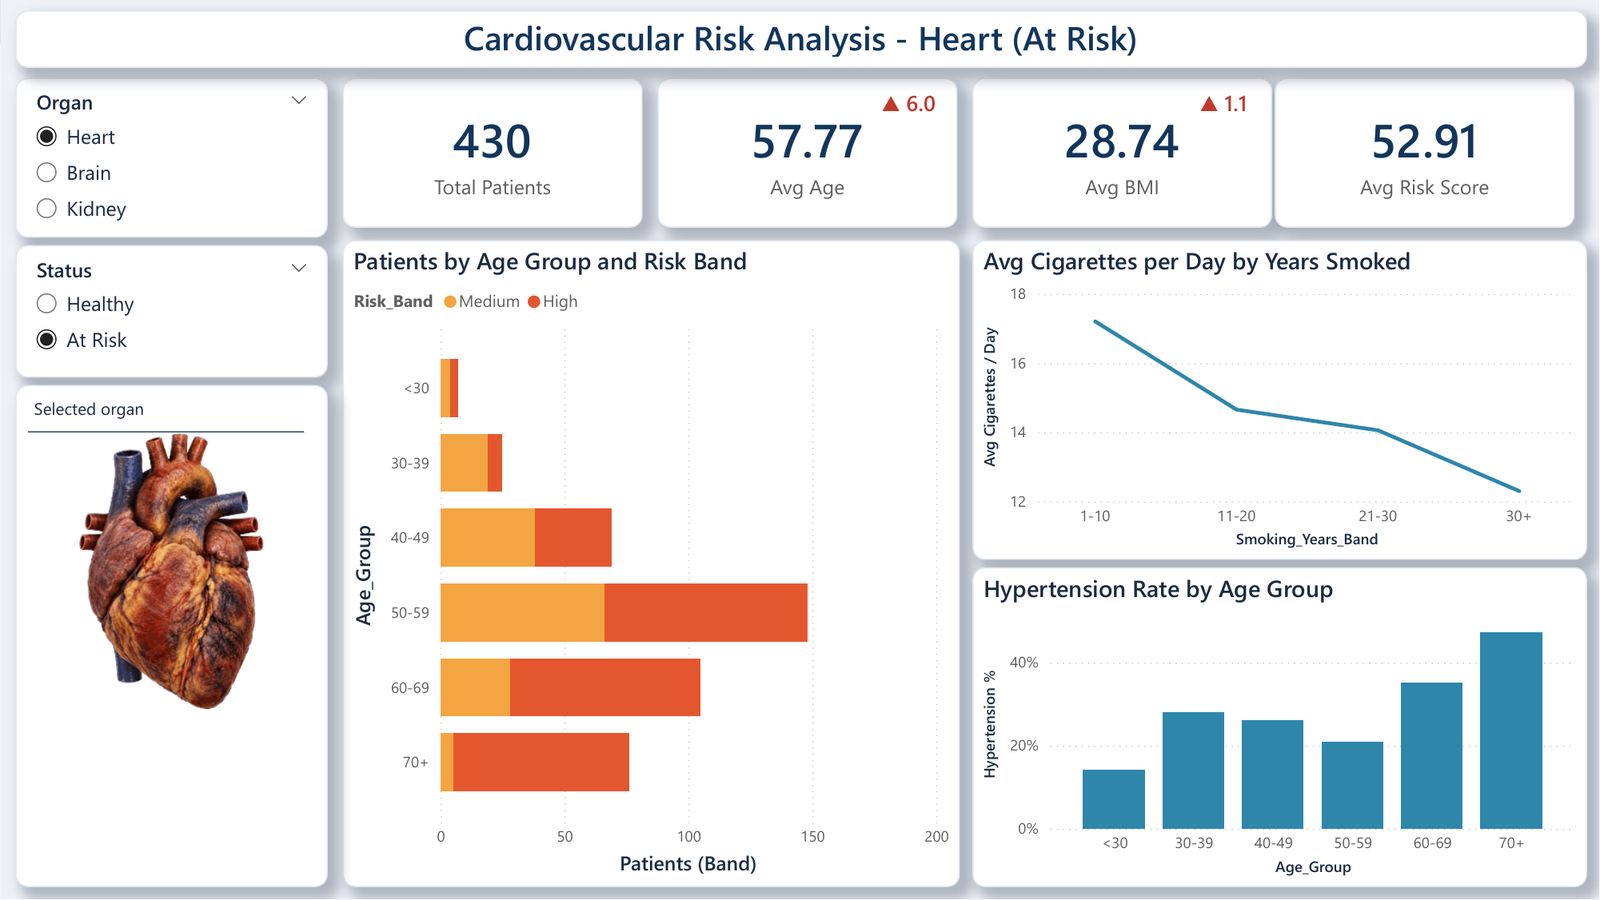

This screenshot's page, from the dashboard's own definition file:
{"tool":"powerbi","page":{"name":"Page 1","canvas":[1280,720],"ordinal":0},"visuals":[{"type":"slicer","fields":{"Values":["dim_organ.Organ"]},"box":[12,62,250,128],"z":0},{"type":"slicer","fields":{"Values":["dim_status.Status"]},"box":[12,196,250,106],"z":1},{"type":"card","fields":{"Values":["patients.Total Patients"]},"box":[274,62,240,120],"z":2},{"type":"card","fields":{"Values":["patients.Avg Age"]},"box":[526,62,240,120],"z":3},{"type":"card","fields":{"Values":["patients.Avg BMI"]},"box":[778,62,240,120],"z":4},{"type":"card","fields":{"Values":["patients.Avg Risk Score"]},"box":[1020,62,240,120],"z":5},{"type":"card","fields":{"Values":["patients.Age vs Avg Label"]},"box":[692,70,70,28],"z":6},{"type":"card","fields":{"Values":["patients.BMI vs Avg Label"]},"box":[944,70,70,28],"z":7},{"type":"barChart","title":"Patients by Age Group and Risk Band","fields":{"Category":["patients.Age_Group"],"Y":["patients.Patients (Band)"],"Series":["patients.Risk_Band"]},"box":[274,192,494,518],"z":8},{"type":"lineChart","title":"Avg Cigarettes per Day by Years Smoked","fields":{"Category":["patients.Smoking_Years_Band"],"Y":["patients.Avg Cigarettes / Day"]},"box":[778,192,492,256],"z":10},{"type":"clusteredColumnChart","title":"Hypertension Rate by Age Group","fields":{"Category":["patients.Age_Group"],"Y":["patients.Hypertension %"]},"box":[778,454,492,256],"z":11},{"type":"tableEx","fields":{"Values":["patients.Organ Image"]},"box":[12,308,250,402],"z":12},{"type":"card","fields":{"Values":["patients.Dashboard Title"]},"box":[12,8,1258,46],"z":13}]}

Visuals, with their boxes in screenshot pixels (x1, y1, x2, y2), scaled from the page's 1280x720 canvas onto the 1600x900 screenshot:
slicer - dim_organ.Organ: 15,78,328,238
slicer - dim_status.Status: 15,245,328,378
card - patients.Total Patients: 342,78,642,228
card - patients.Avg Age: 658,78,958,228
card - patients.Avg BMI: 972,78,1272,228
card - patients.Avg Risk Score: 1275,78,1575,228
card - patients.Age vs Avg Label: 865,88,952,122
card - patients.BMI vs Avg Label: 1180,88,1268,122
"Patients by Age Group and Risk Band" barChart: 342,240,960,888
"Avg Cigarettes per Day by Years Smoked" lineChart: 972,240,1588,560
"Hypertension Rate by Age Group" clusteredColumnChart: 972,568,1588,888
tableEx - patients.Organ Image: 15,385,328,888
card - patients.Dashboard Title: 15,10,1588,68
